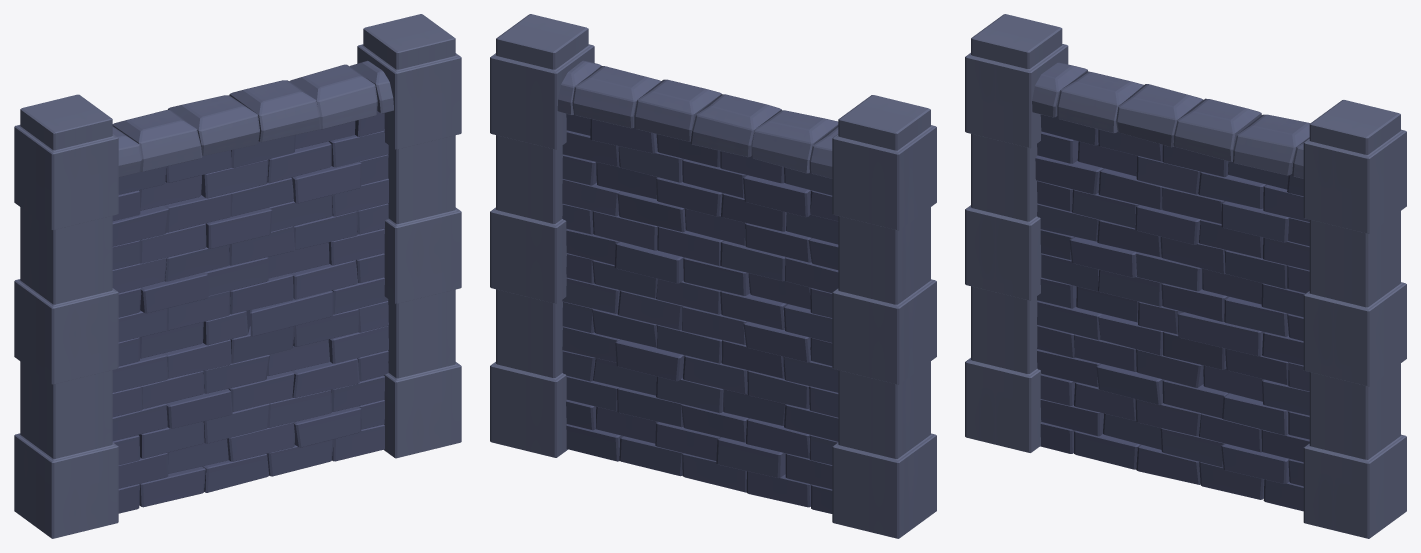
File: Stone_Wall.fbx
The picture shows the model from 3 angles, left to right: view 1: azimuth 30°, elevation 25°; view 2: azimuth 150°, elevation 25°; view 3: azimuth 330°, elevation 25°; orthographic projection.
Visible parts, largest first — view 1: Stone_Wall, Stone_Wall_Pillar_Right, Stone_Wall_Pillar_Left; view 2: Stone_Wall, Stone_Wall_Pillar_Right, Stone_Wall_Pillar_Left; view 3: Stone_Wall, Stone_Wall_Pillar_Left, Stone_Wall_Pillar_Right.
Part boxes in pixels (x1,y1,x2,y2): Stone_Wall: [112, 60, 393, 513]; Stone_Wall_Pillar_Right: [14, 94, 118, 538]; Stone_Wall_Pillar_Left: [357, 14, 461, 458]; Stone_Wall: [557, 60, 838, 513]; Stone_Wall_Pillar_Right: [832, 95, 936, 538]; Stone_Wall_Pillar_Left: [490, 14, 594, 457]; Stone_Wall: [1032, 62, 1310, 511]; Stone_Wall_Pillar_Left: [1303, 100, 1406, 538]; Stone_Wall_Pillar_Right: [965, 14, 1068, 452].
Size of the model in its own units: 525 by 498 by 86.47.
